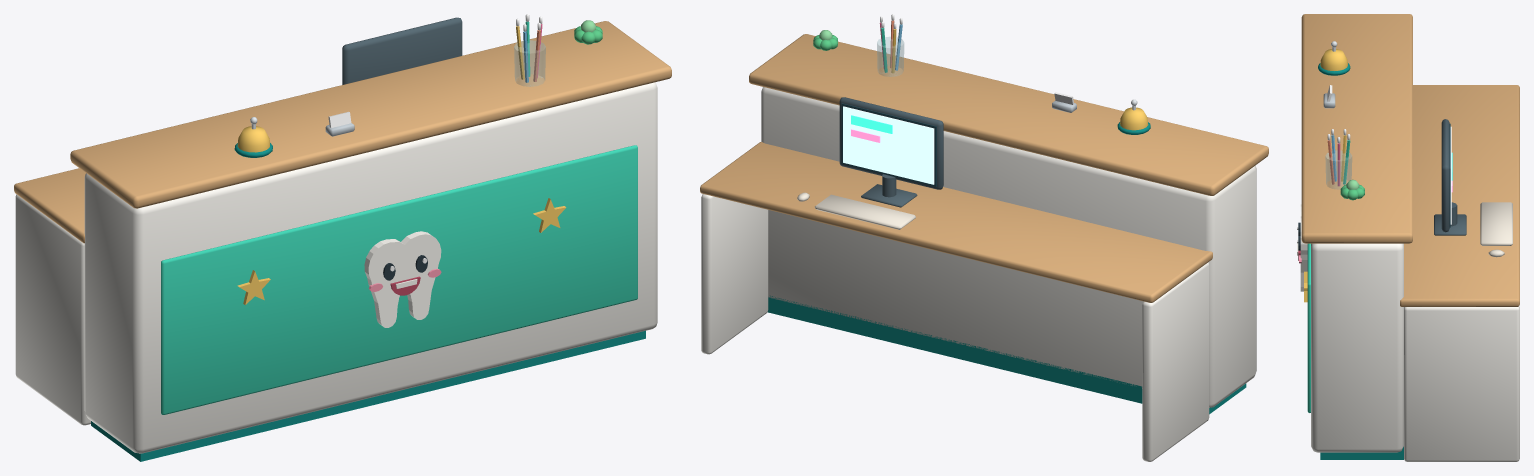
Rendered from reception_desk.glb.
3 views of the same model, side by side, from view 1: azimuth 30°, elevation 25°; view 2: azimuth 150°, elevation 25°; view 3: azimuth 270°, elevation 25° (orthographic). The views are drawn at different scales.
Parts seen in each view (by area): view 1: ReceptionDesk; view 2: ReceptionDesk; view 3: ReceptionDesk.
Boxes of the visible parts, x1,y1,x2,y2 form: ReceptionDesk: (14,14,671,461); ReceptionDesk: (700,14,1268,461); ReceptionDesk: (1297,14,1519,461).
Size of the model in its own units: 2.26 by 1.35 by 0.96.
